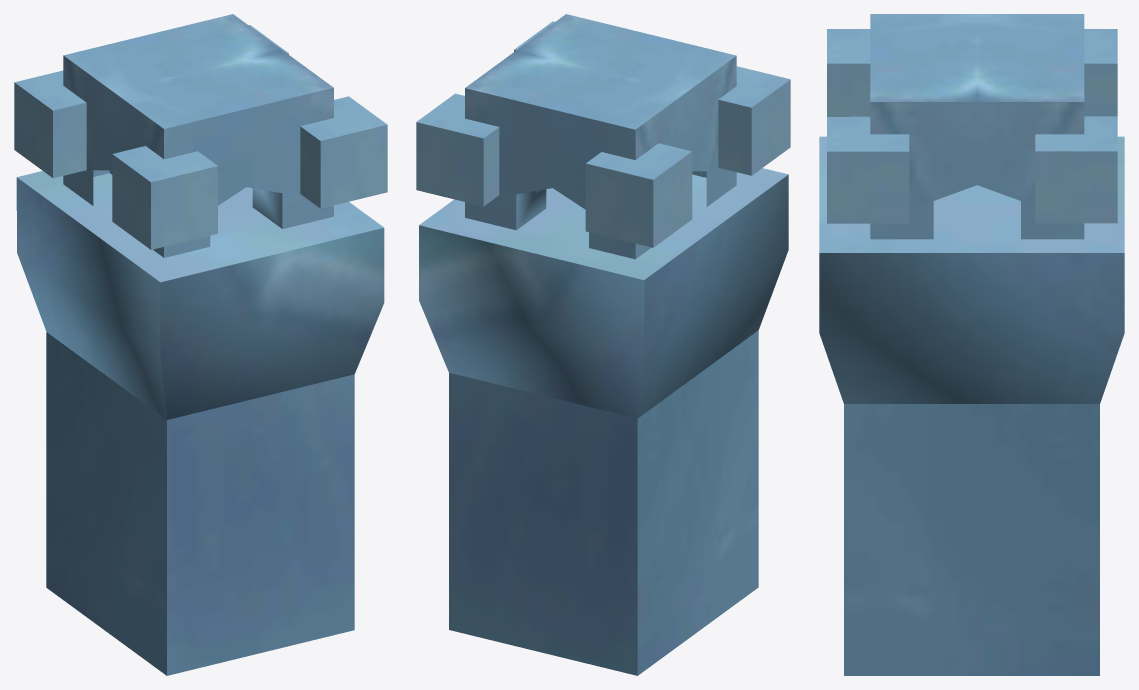
File: anObstacle01.FBX
The picture shows the model from 3 angles, left to right: view 1: azimuth 30°, elevation 25°; view 2: azimuth 150°, elevation 25°; view 3: azimuth 270°, elevation 25°; orthographic projection. The views are drawn at different scales.
Visible parts, largest first — view 1: anObstacle01; view 2: anObstacle01; view 3: anObstacle01.
Part boxes in pixels (x1,y1,x2,y2): anObstacle01: (14, 14, 387, 675); anObstacle01: (416, 14, 790, 675); anObstacle01: (819, 14, 1124, 675).
Bounding box in the file's own units: 113 × 244 × 119.
